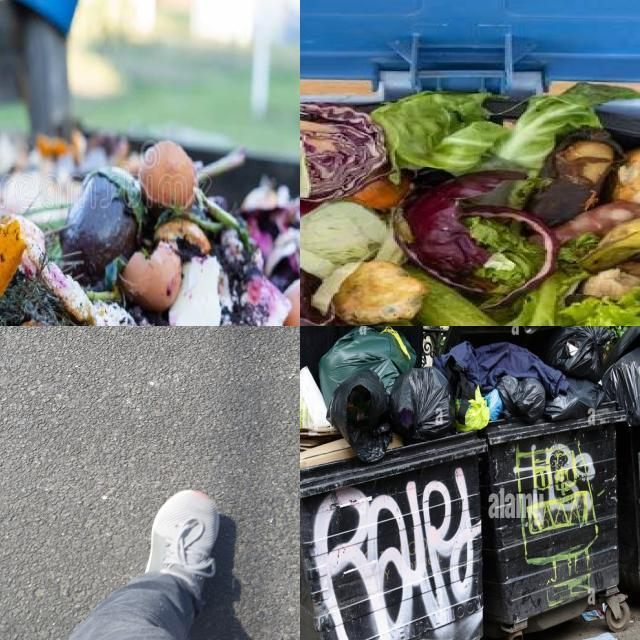Background: (0, 326, 300, 640)
Garbage: (300, 91, 640, 326), (0, 125, 300, 326), (300, 326, 640, 468)
Plastic_Bag: (0, 326, 300, 640), (319, 326, 417, 406), (330, 369, 392, 461), (390, 367, 455, 444), (546, 326, 614, 383), (602, 348, 640, 426), (544, 377, 604, 421), (497, 374, 546, 423), (300, 367, 330, 428), (455, 386, 490, 432)
